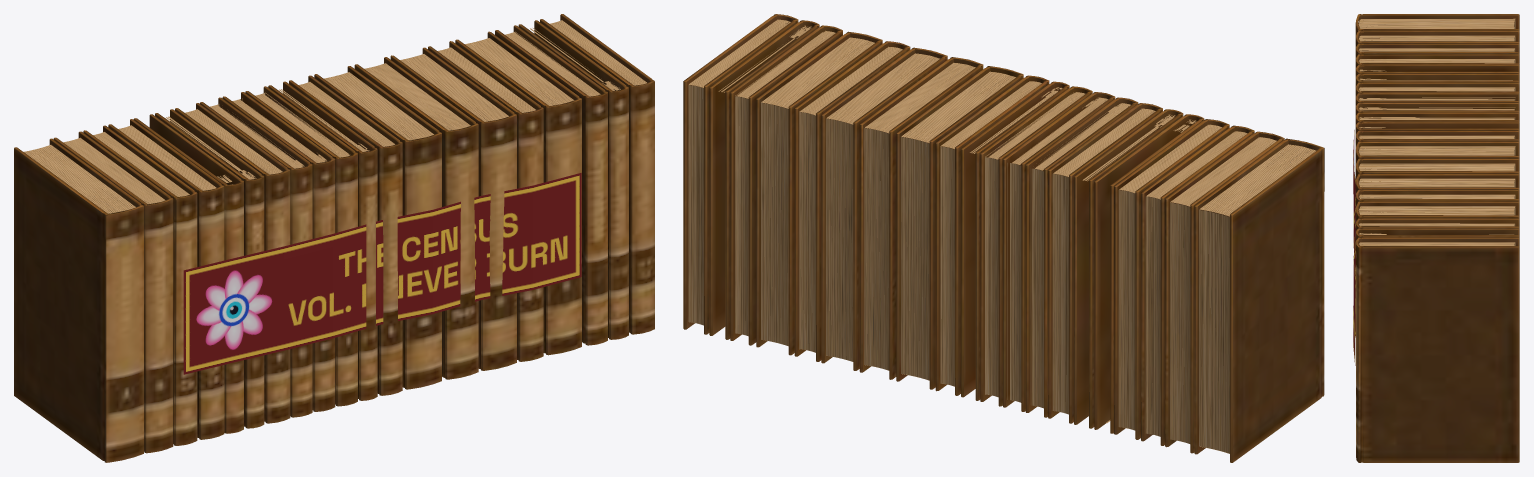
Rendered from nyb_library_census.glb.
The picture shows the model from 3 angles, left to right: view 1: azimuth 30°, elevation 25°; view 2: azimuth 150°, elevation 25°; view 3: azimuth 270°, elevation 25°; orthographic projection. The views are drawn at different scales.
Visible parts, largest first — view 1: book_encyclopedia_set_01_book01, stk_lbl_3fc308a0fb.png; view 2: book_encyclopedia_set_01_book01; view 3: book_encyclopedia_set_01_book01, stk_lbl_3fc308a0fb.png.
Part boxes in pixels (x1,y1,x2,y2): book_encyclopedia_set_01_book01: (14, 14, 654, 462); stk_lbl_3fc308a0fb.png: (183, 173, 581, 374); book_encyclopedia_set_01_book01: (683, 14, 1324, 462); book_encyclopedia_set_01_book01: (1355, 14, 1519, 462); stk_lbl_3fc308a0fb.png: (1353, 130, 1355, 365).
Size of the model in its own units: 0.5513 by 0.2374 by 0.1658.
3 materials, 3 textured.
